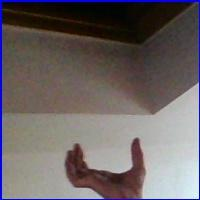space: (54, 136, 159, 198)
